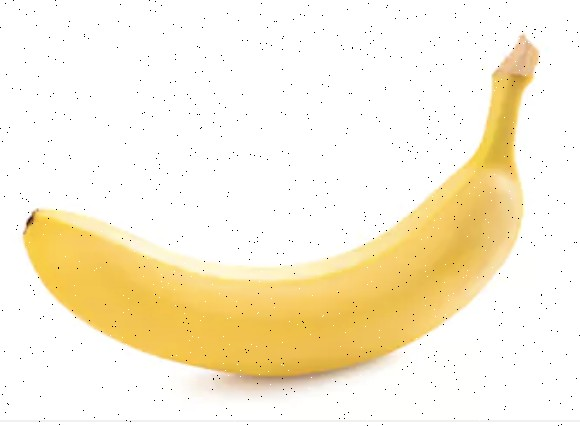fresh_banana: (22, 37, 540, 377)
